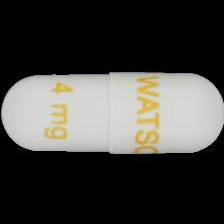69189-0215: (0, 0, 224, 224)
